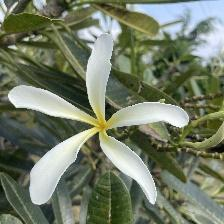champaka: (9, 30, 194, 212)
